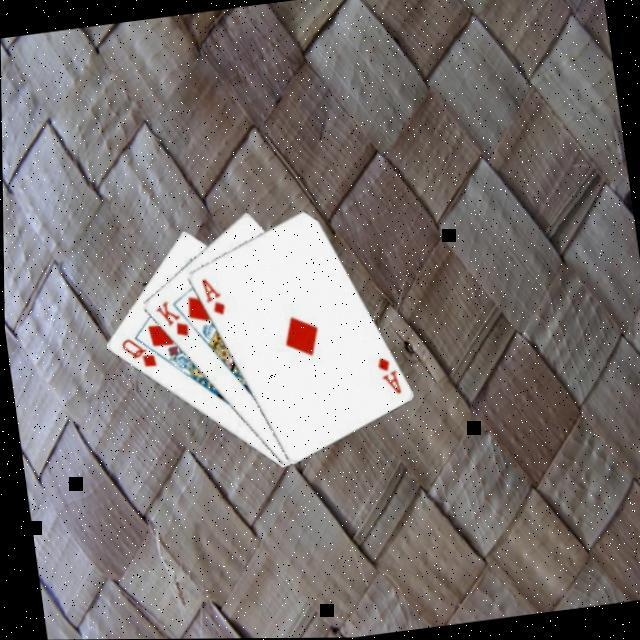AD: (368, 351, 402, 398), (193, 270, 226, 318)
KD: (147, 293, 189, 341)
QD: (114, 329, 156, 372)
